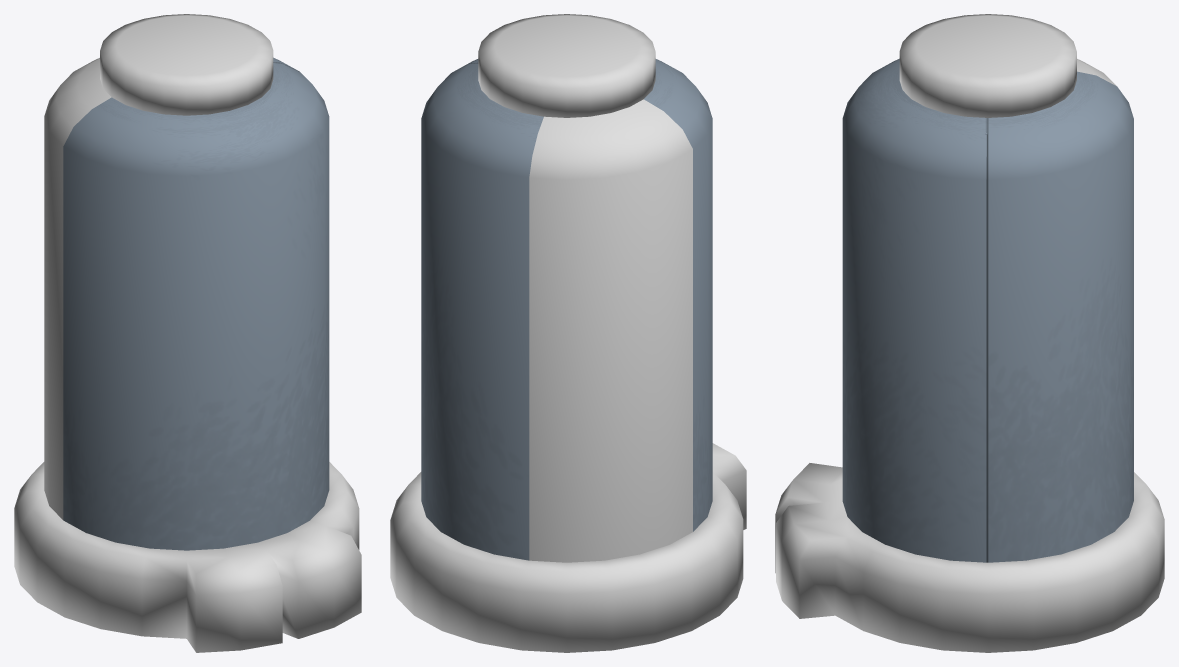
The model's file is acid tank.fbx.
3 views of the same model, side by side, from view 1: azimuth 30°, elevation 25°; view 2: azimuth 150°, elevation 25°; view 3: azimuth 270°, elevation 25° (orthographic). The views are drawn at different scales.
Visible parts, largest first — view 1: Acid Tank; view 2: Acid Tank; view 3: Acid Tank.
Part boxes in pixels (x1=…): Acid Tank: x1=14, y1=14, x2=361, y2=652; Acid Tank: x1=390, y1=14, x2=746, y2=652; Acid Tank: x1=775, y1=14, x2=1164, y2=652.
Bounding box in the file's own units: 7.27 × 12.09 × 8.02.
